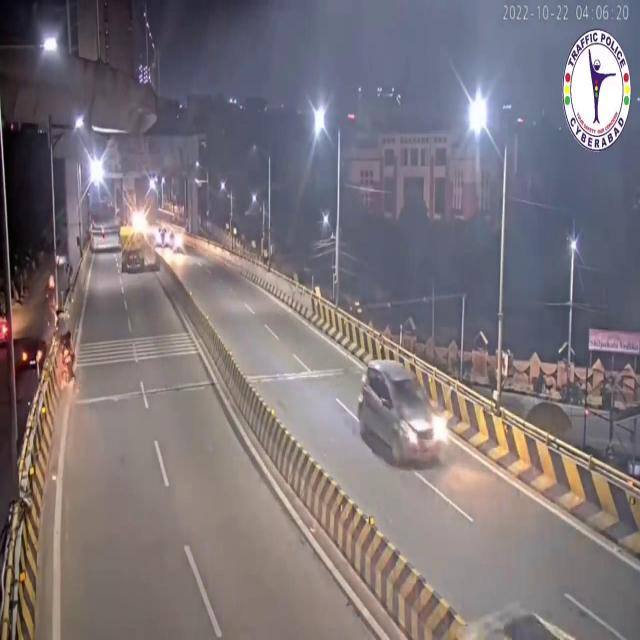accident: (53, 301, 80, 392)
